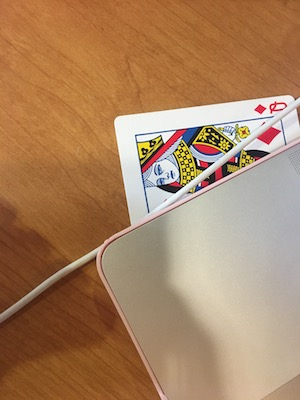QueenOfDiamonds: (98, 91, 300, 223)
